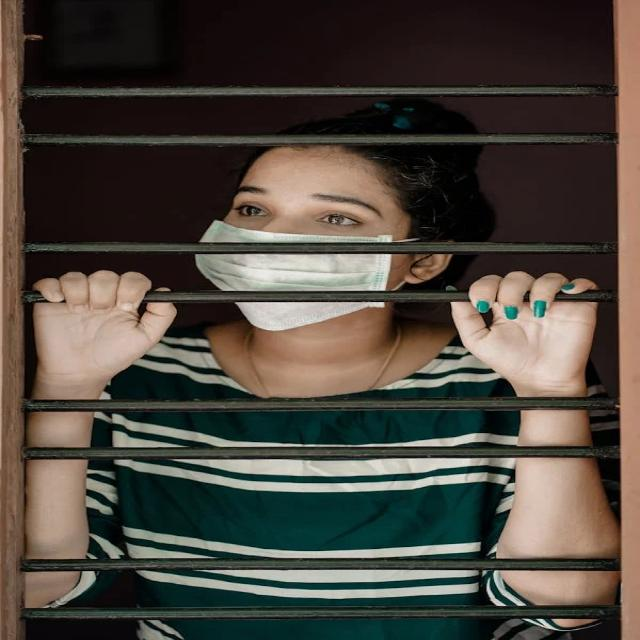mask: (160, 115, 458, 342)
